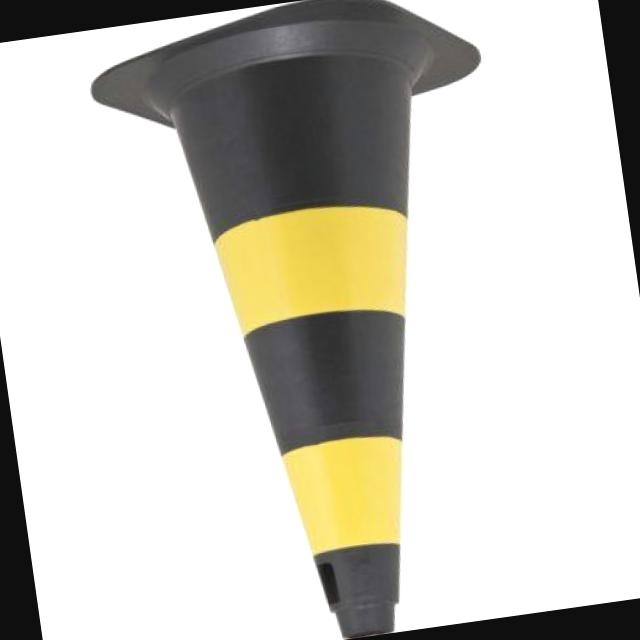cone: (82, 0, 569, 640)
